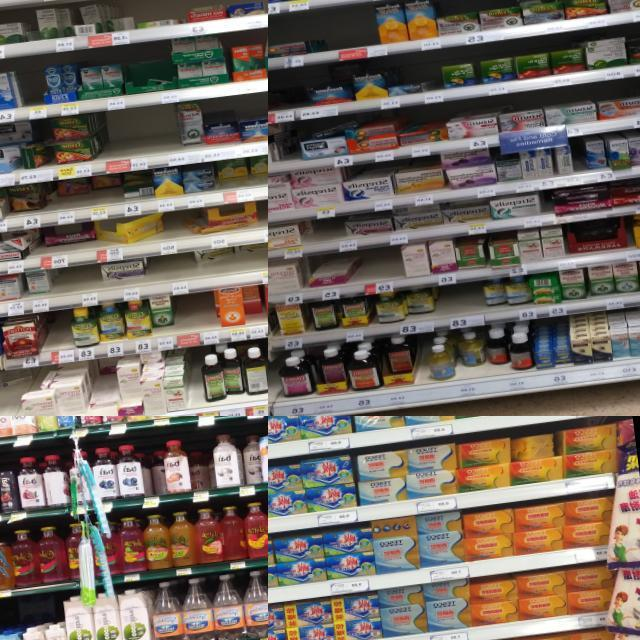empty: (323, 4, 378, 61), (105, 108, 152, 172), (174, 290, 218, 346), (358, 246, 403, 294), (148, 104, 180, 168), (440, 282, 484, 328), (151, 252, 194, 296), (62, 263, 102, 308), (273, 73, 308, 122), (44, 311, 72, 364), (20, 64, 46, 120), (314, 216, 346, 253), (420, 56, 443, 103), (281, 122, 303, 171), (161, 210, 183, 253), (255, 198, 268, 241)
